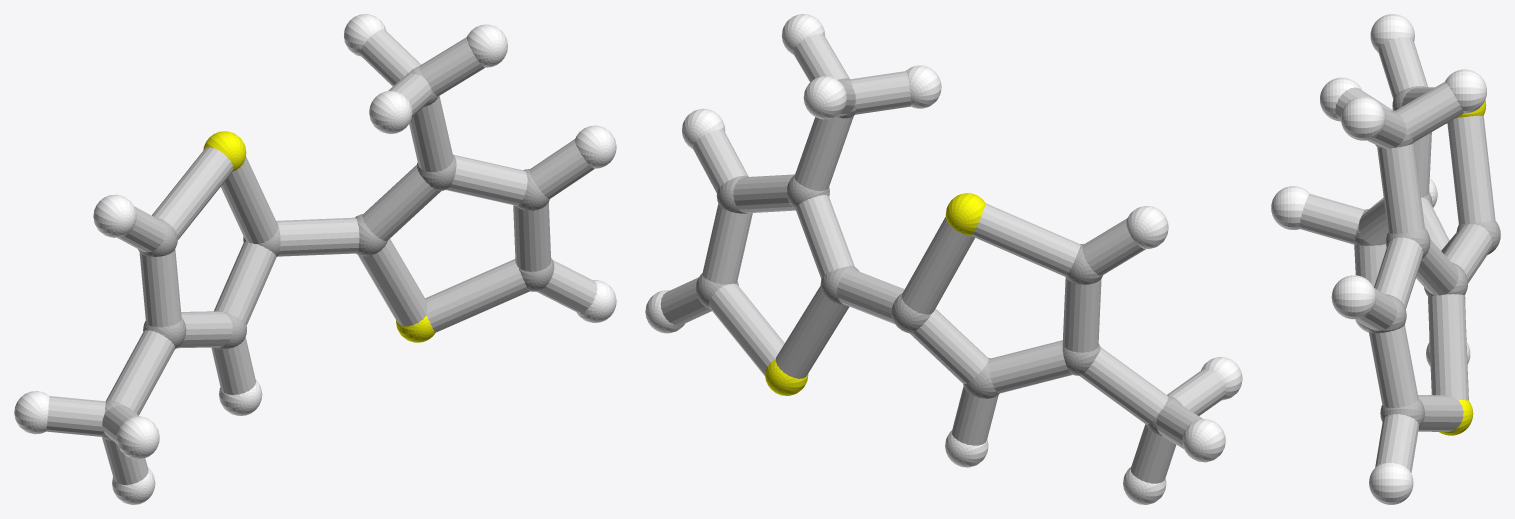
Rendered from Methylthiophene_Phi_40_Theta_20_Methylthiophene.glb.
3 views of the same model, side by side, from view 1: azimuth 30°, elevation 25°; view 2: azimuth 150°, elevation 25°; view 3: azimuth 270°, elevation 25° (orthographic). The views are drawn at different scales.
Parts seen in each view (by area): view 1: grp7965, grp3621, grp1, grp7241; view 2: grp7965, grp3621, grp1, grp7241; view 3: grp7965, grp3621, grp1, grp7241.
Part boxes in pixels (bbox=[...]): grp7965: bbox=[46, 29, 597, 485]; grp3621: bbox=[14, 14, 616, 504]; grp1: bbox=[102, 66, 554, 440]; grp7241: bbox=[203, 131, 435, 342]; grp7965: bbox=[660, 33, 1226, 483]; grp3621: bbox=[645, 14, 1242, 504]; grp1: bbox=[696, 78, 1182, 435]; grp7241: bbox=[765, 193, 985, 395]; grp7965: bbox=[1299, 37, 1495, 472]; grp3621: bbox=[1271, 14, 1486, 504]; grp1: bbox=[1354, 86, 1500, 427]; grp7241: bbox=[1439, 100, 1486, 435].
Size of the model in its own units: 9.34 by 6.05 by 3.1.
